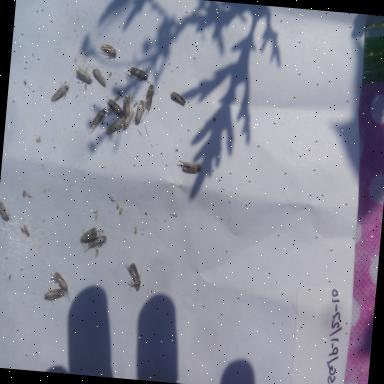pbw: (122, 258, 146, 296), (141, 81, 160, 117), (74, 219, 100, 244), (74, 60, 97, 87), (173, 156, 204, 176), (50, 78, 72, 106), (134, 96, 151, 132), (123, 63, 152, 84), (88, 106, 108, 136), (82, 232, 108, 255), (40, 284, 67, 306), (45, 269, 70, 292), (90, 64, 112, 90), (168, 87, 192, 110), (96, 40, 120, 62), (104, 115, 124, 141), (104, 97, 126, 119), (119, 91, 134, 120), (0, 196, 12, 224), (120, 113, 132, 133)
